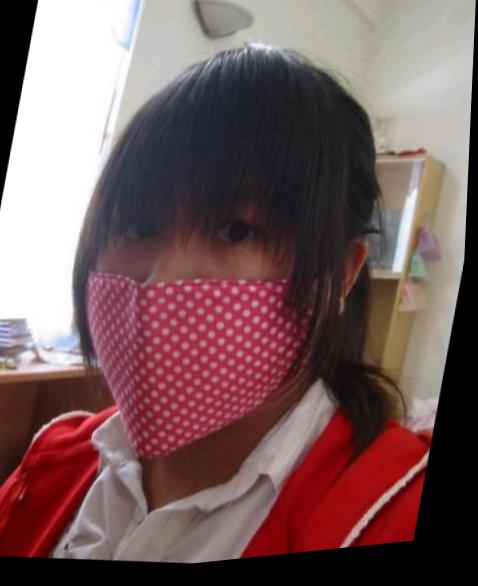WRONG: (51, 166, 332, 460)
